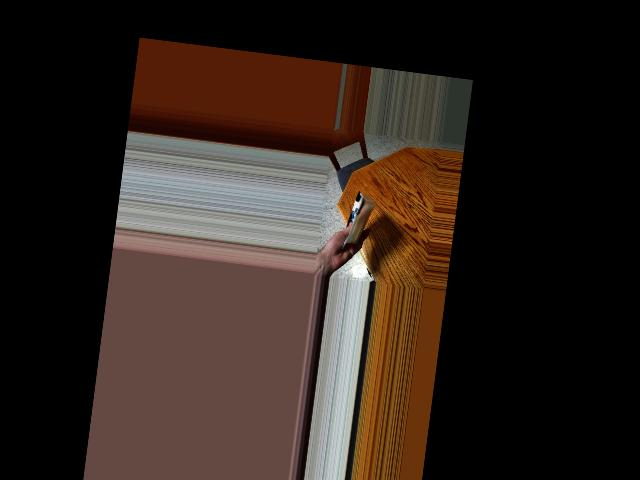cheese: (331, 191, 381, 247)
